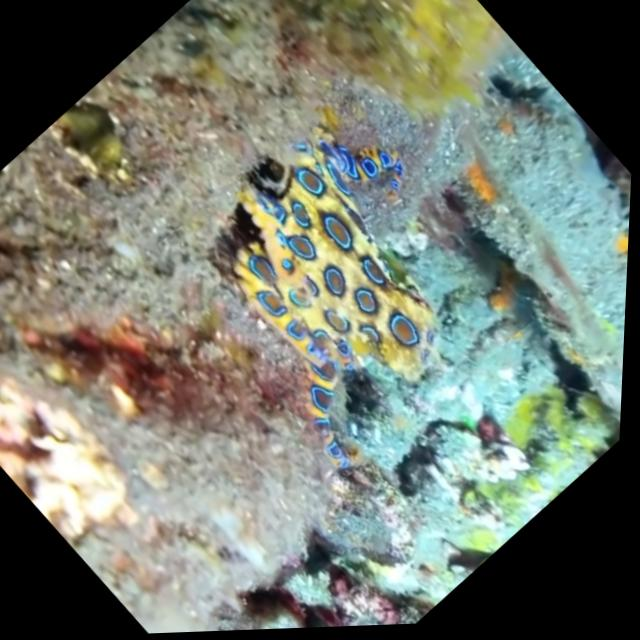blue_ringed_octopus: (144, 79, 551, 489)
